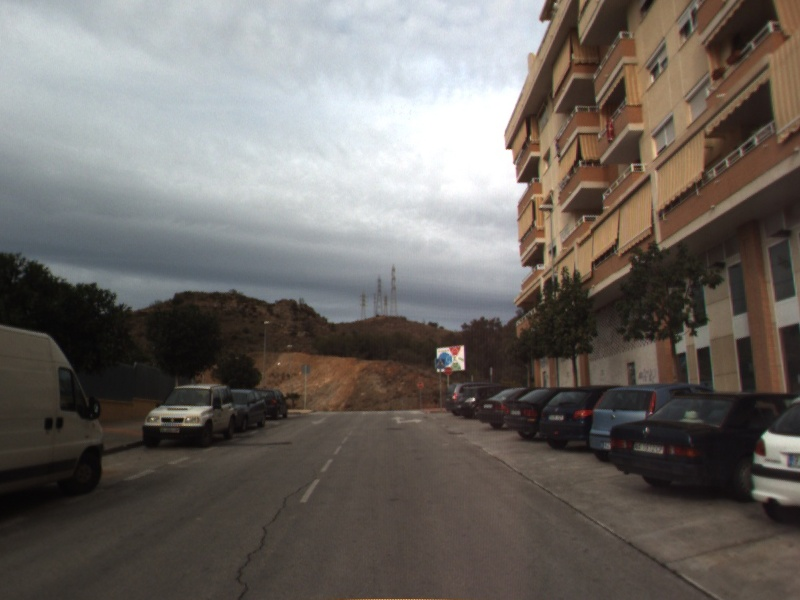STRAIGHT_RIGHT: (388, 414, 425, 426)
